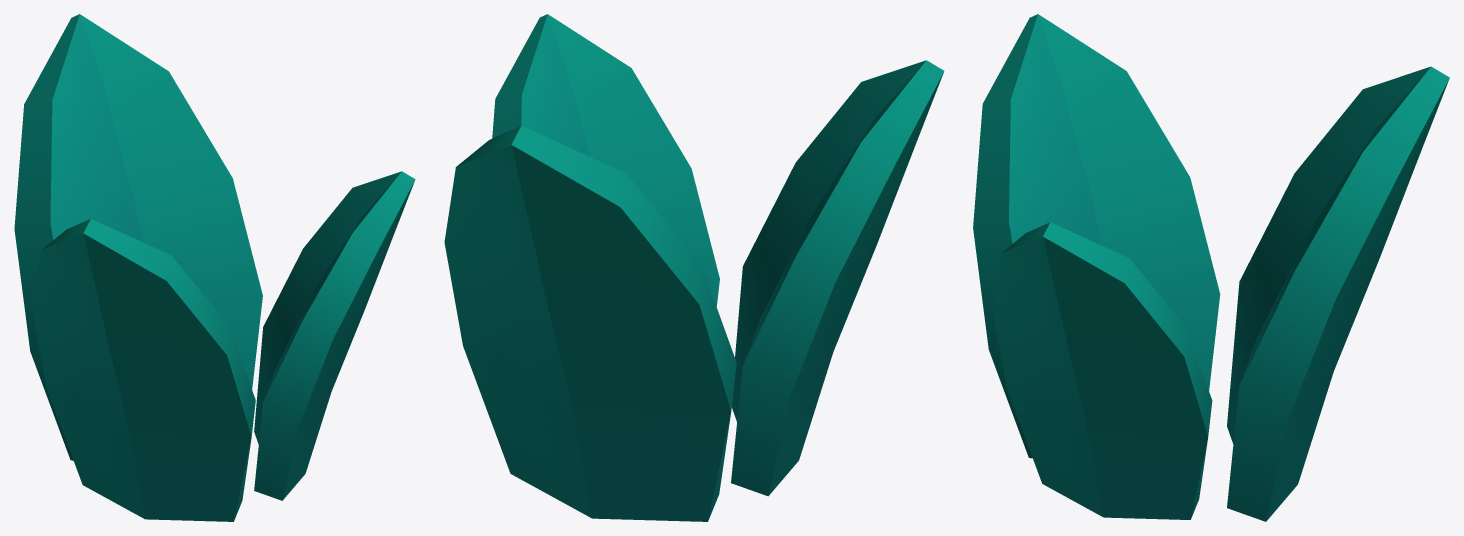
File: Grass_1_B_Color4.fbx
3 views of the same model, side by side, from view 1: azimuth 30°, elevation 25°; view 2: azimuth 150°, elevation 25°; view 3: azimuth 270°, elevation 25° (orthographic). The views are drawn at different scales.
Visible parts, largest first — view 1: Grass_1_B_Color4; view 2: Grass_1_B_Color4; view 3: Grass_1_B_Color4.
Part boxes in pixels (bbox=[...]): Grass_1_B_Color4: bbox=[14, 14, 415, 521]; Grass_1_B_Color4: bbox=[444, 14, 944, 521]; Grass_1_B_Color4: bbox=[973, 14, 1449, 521].
Size of the model in its own units: 0.5051 by 0.5375 by 0.5557.
